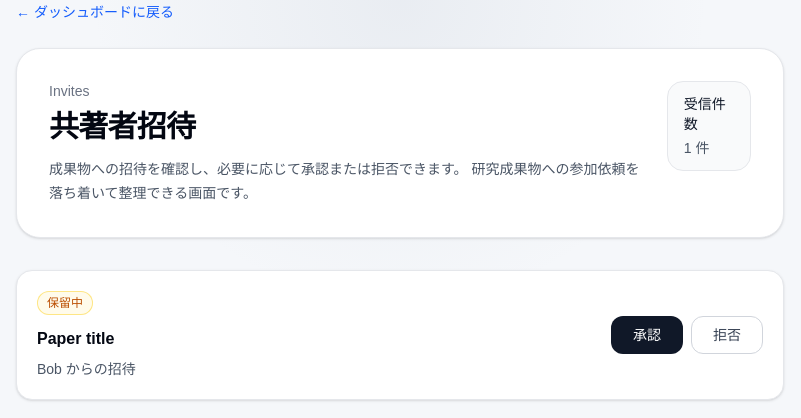
Test case: InvitesPage › accepts a pending invite and updates the status
Expected: the link "Paper title" is shown, [37,330,114,347]
Click the button "承認": click(647, 335) [611,316,683,354]
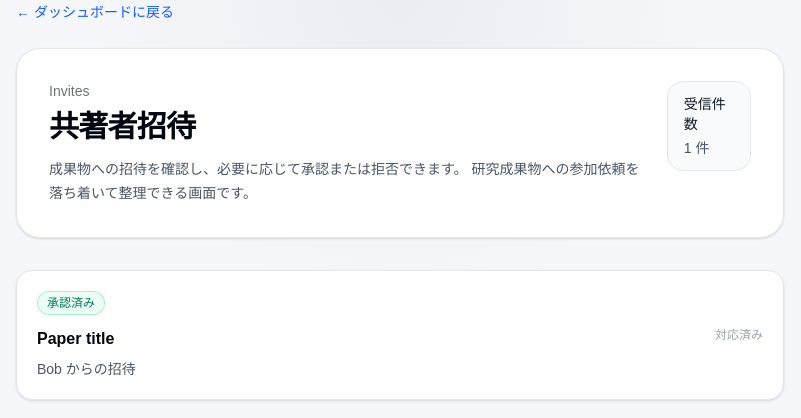
Expected: the text "承認済み" is shown, [37,291,105,315]
